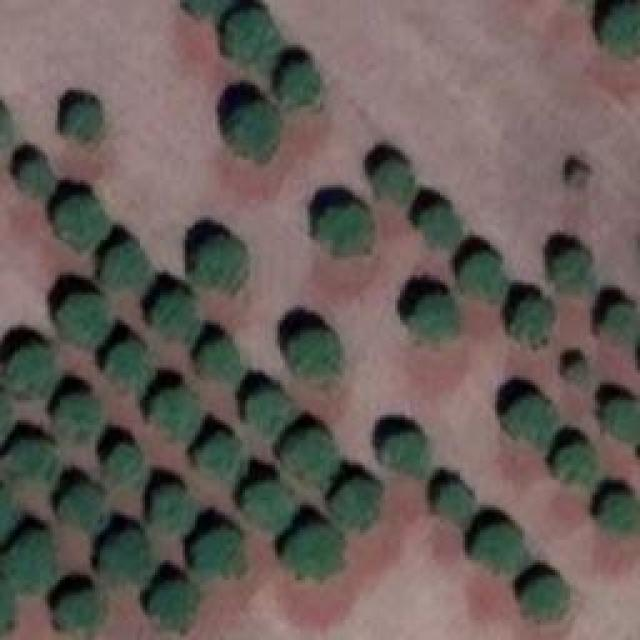Tree: (225, 10, 285, 70), (283, 430, 338, 488), (285, 525, 343, 578), (55, 198, 110, 253), (5, 532, 55, 590), (232, 102, 280, 160), (5, 345, 55, 398), (150, 388, 200, 441), (503, 395, 556, 445), (100, 533, 148, 586), (475, 525, 528, 573), (318, 205, 371, 253), (193, 238, 243, 288), (60, 295, 108, 345), (150, 580, 198, 630), (195, 530, 243, 580), (100, 242, 150, 290), (378, 432, 428, 480), (410, 292, 460, 340), (153, 293, 198, 346), (245, 482, 293, 530), (105, 340, 153, 388), (457, 252, 505, 300), (248, 388, 293, 438), (290, 330, 340, 375), (55, 395, 103, 440), (3, 443, 56, 483), (510, 295, 553, 343), (333, 480, 378, 525), (198, 340, 243, 385), (602, 5, 640, 55), (60, 485, 103, 528), (52, 590, 100, 628), (107, 442, 145, 490), (437, 482, 475, 530), (553, 250, 593, 295), (198, 435, 241, 475), (523, 578, 563, 621), (373, 160, 413, 203), (420, 208, 460, 251), (280, 65, 320, 108), (152, 488, 190, 531), (602, 400, 640, 443), (600, 303, 640, 343), (602, 493, 640, 533), (555, 447, 593, 485), (68, 103, 101, 133), (20, 160, 53, 190), (185, 0, 235, 15), (565, 360, 585, 378)
